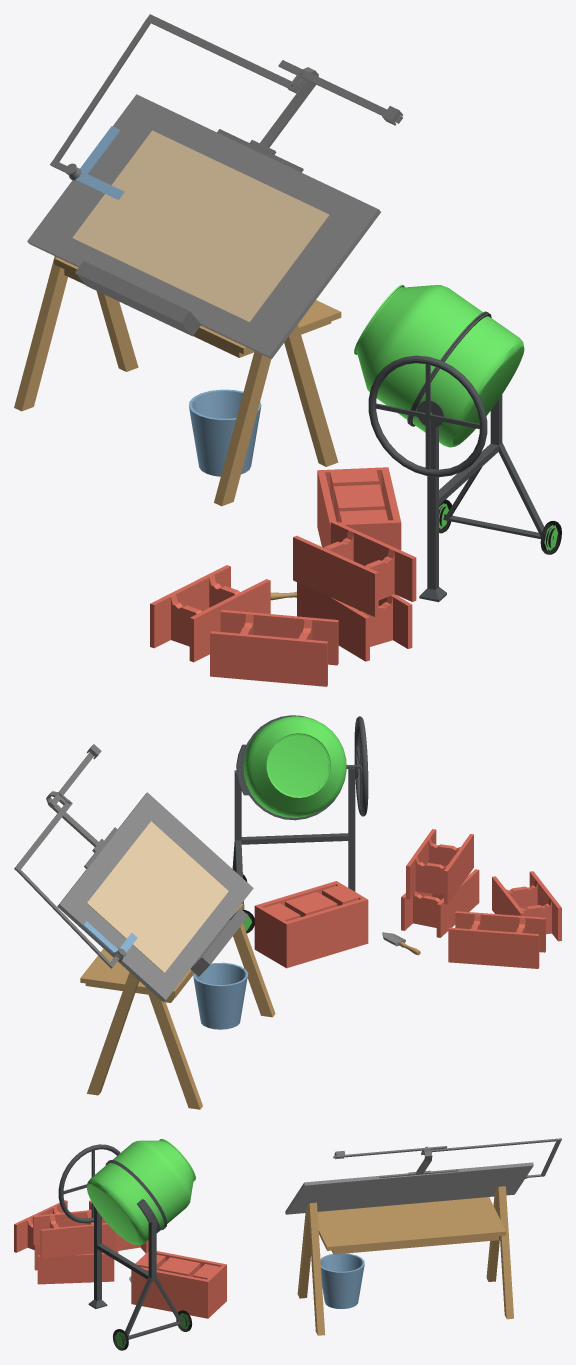
Rendered from Building13_3DStuff.fbx.
3 renders of one model, top to bottom at view 1: azimuth 30°, elevation 25°; view 2: azimuth 150°, elevation 25°; view 3: azimuth 270°, elevation 25°, orthographic. The views are drawn at different scales.
Visible parts, largest first — view 1: Cylinder.056; view 2: Cylinder.056; view 3: Cylinder.056.
Boxes of the visible parts, x1,y1,x2,y2 form: Cylinder.056: [14, 14, 561, 686]; Cylinder.056: [14, 715, 561, 1109]; Cylinder.056: [14, 1138, 561, 1350].
Size of the model in its own units: 251 by 185 by 443.
